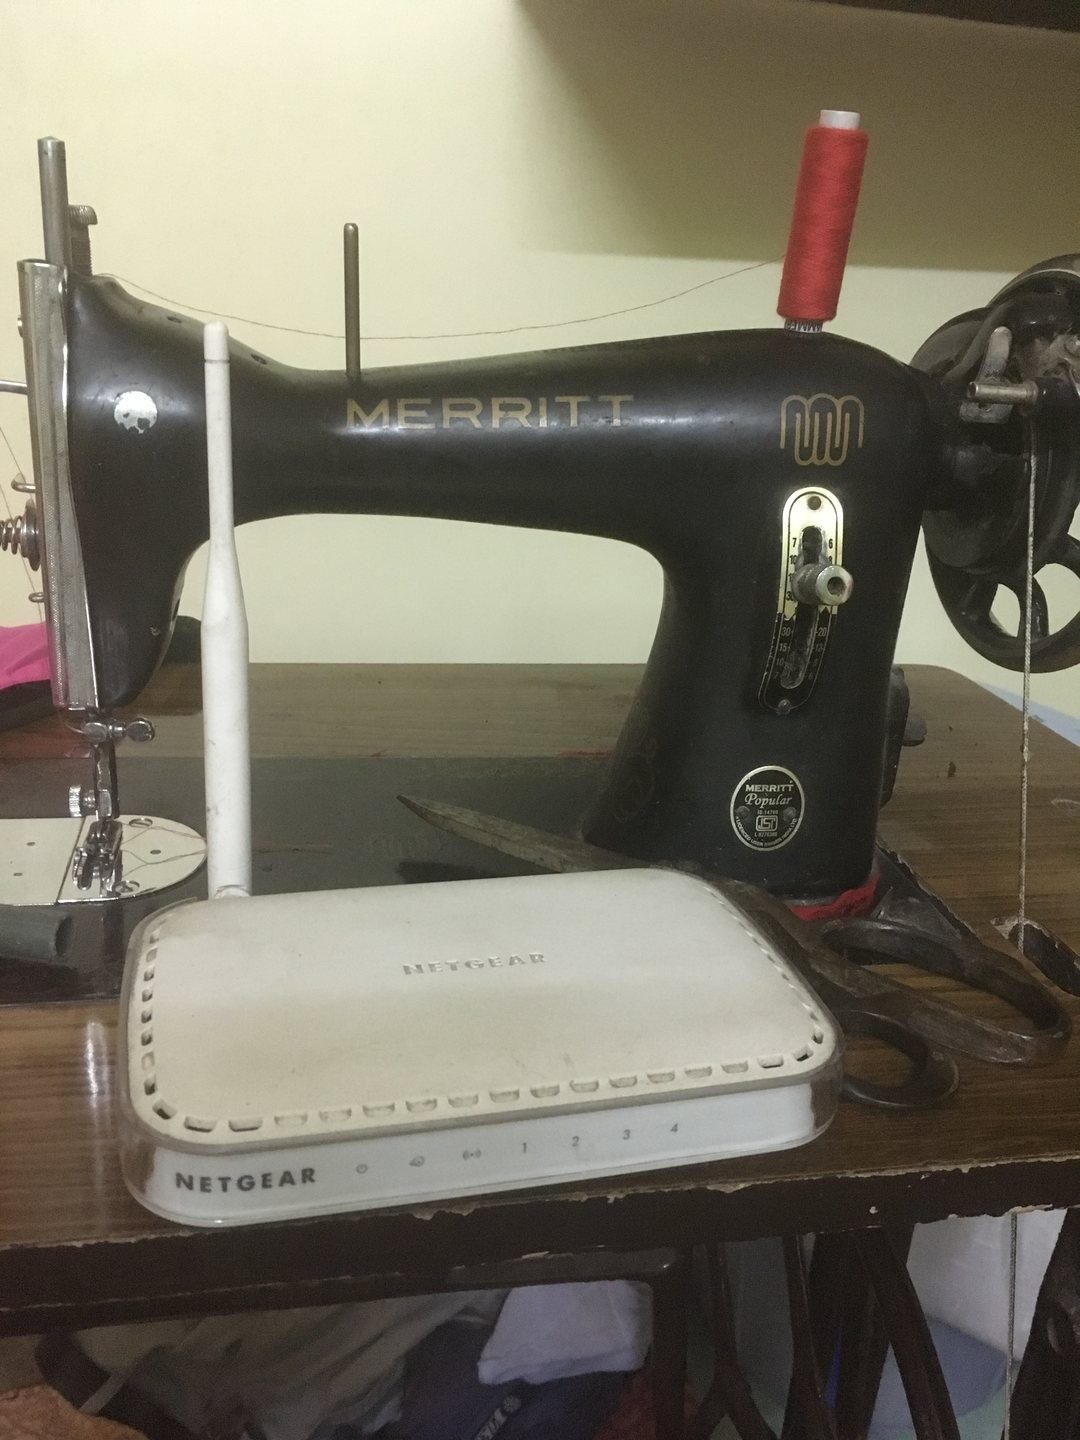NETGEAR: (163, 1162, 324, 1198)
modem: (133, 1067, 870, 1225)
